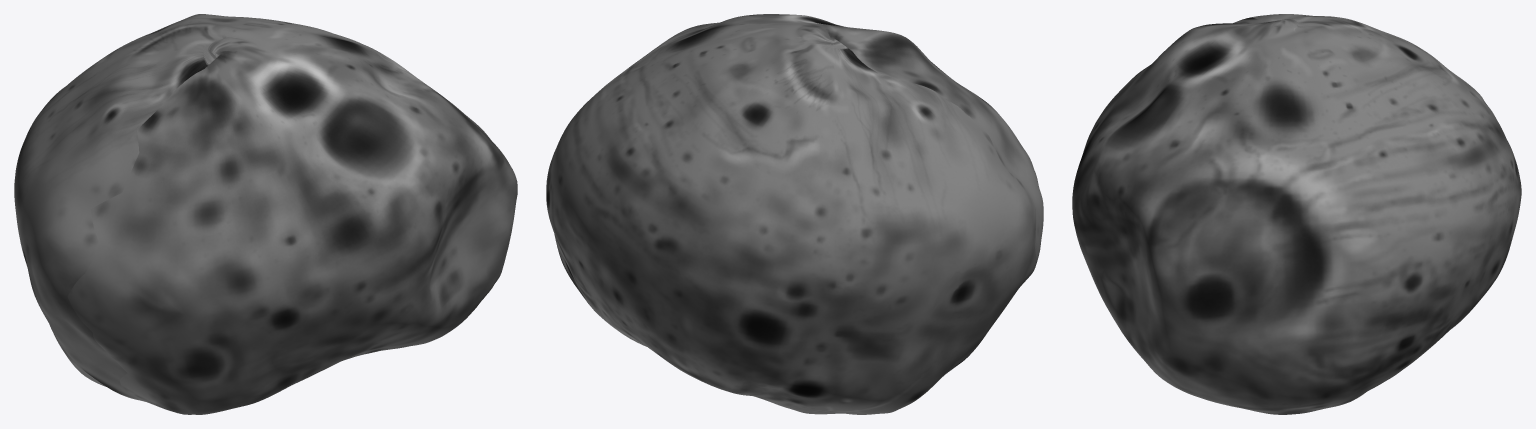
Rendered from phobos.obj.
3 views of the same model, side by side, from view 1: azimuth 30°, elevation 25°; view 2: azimuth 150°, elevation 25°; view 3: azimuth 270°, elevation 25° (orthographic).
Parts seen in each view (by area): view 1: phobos; view 2: phobos; view 3: phobos.
Boxes of the visible parts, x1,y1,x2,y2 form: phobos: [14, 14, 517, 414]; phobos: [546, 14, 1043, 414]; phobos: [1072, 14, 1521, 414].
Size of the model in its own units: 1.03 by 0.7686 by 0.9291.
1 material, 1 textured.
